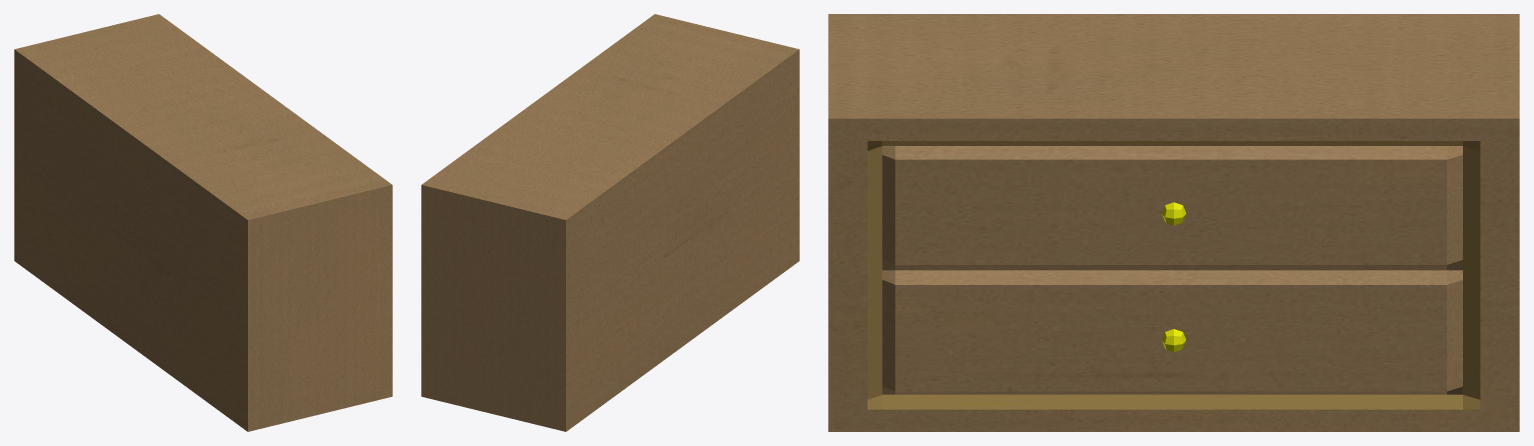
File: Comoda.fbx
The picture shows the model from 3 angles, left to right: view 1: azimuth 30°, elevation 25°; view 2: azimuth 150°, elevation 25°; view 3: azimuth 270°, elevation 25°; orthographic projection. The views are drawn at different scales.
Visible parts, largest first — view 1: Cube; view 2: Cube; view 3: Cube.
Boxes of the visible parts, x1,y1,x2,y2 form: Cube: (14, 14, 392, 431); Cube: (421, 14, 799, 431); Cube: (828, 14, 1519, 431).
Bounding box in the file's own units: 369 × 492 × 983.
Materials: 2 (1 with a texture image).
